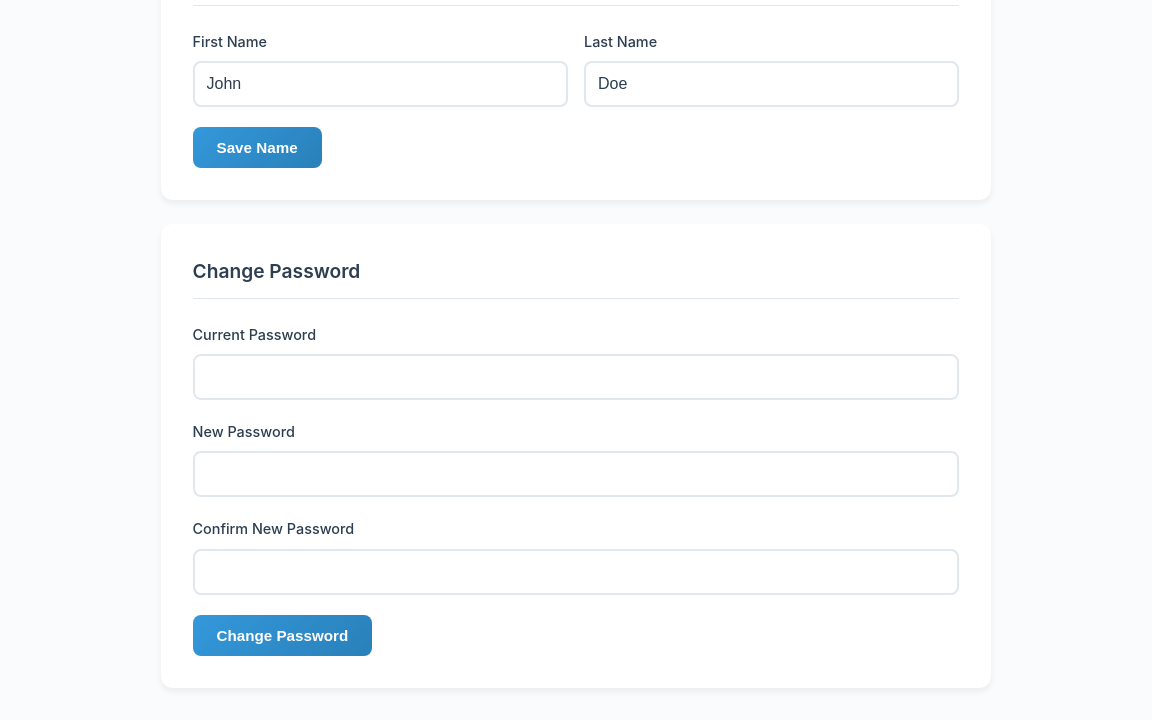
Test case: UserProfile › Change Password form › shows error when passwords do not match
(page scrolled)
Type "OldPass1!" into the password field labelled "Current Password" at (576, 377), box [192,354,959,400]
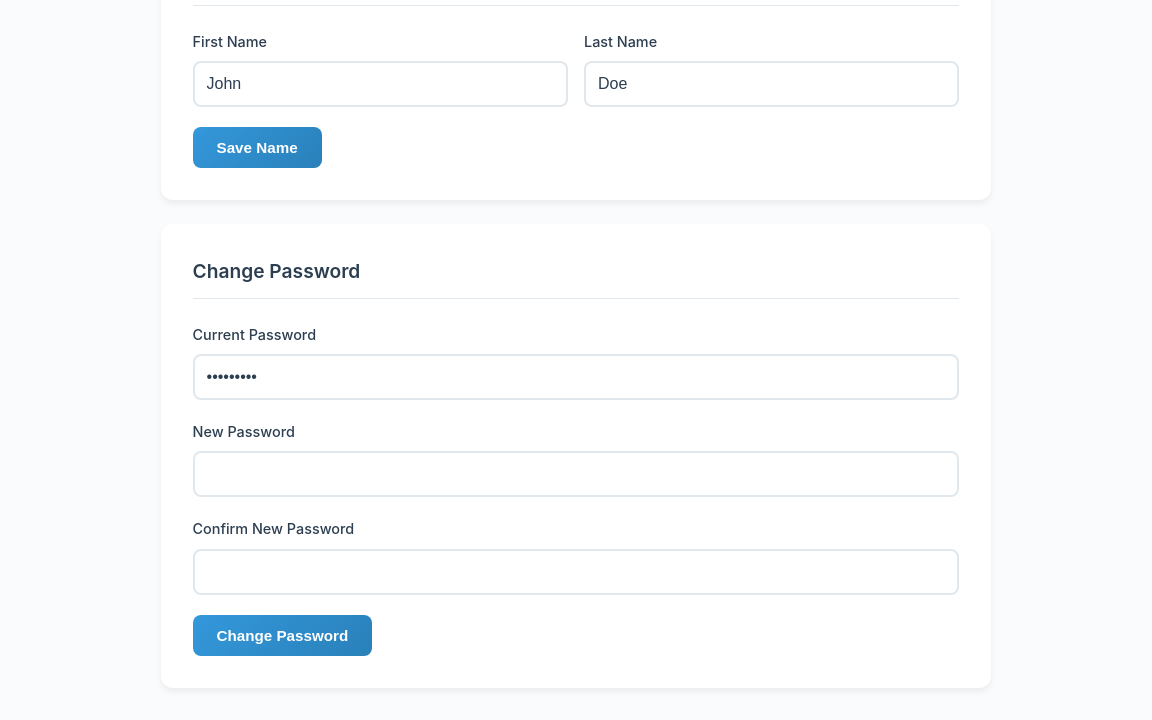
Type "NewPass1!" into the password field labelled "New Password" at (576, 474), box [192,452,959,498]
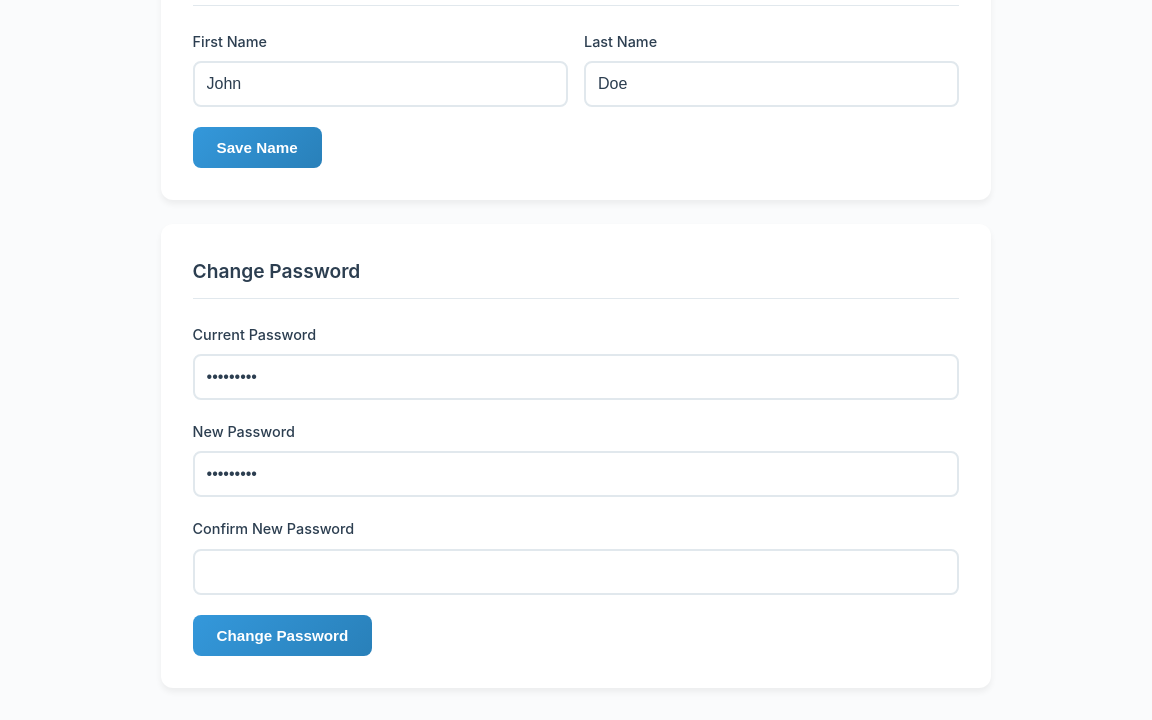
Type "Different!" into the password field labelled "Confirm New Password" at (576, 572), box [192,548,959,594]
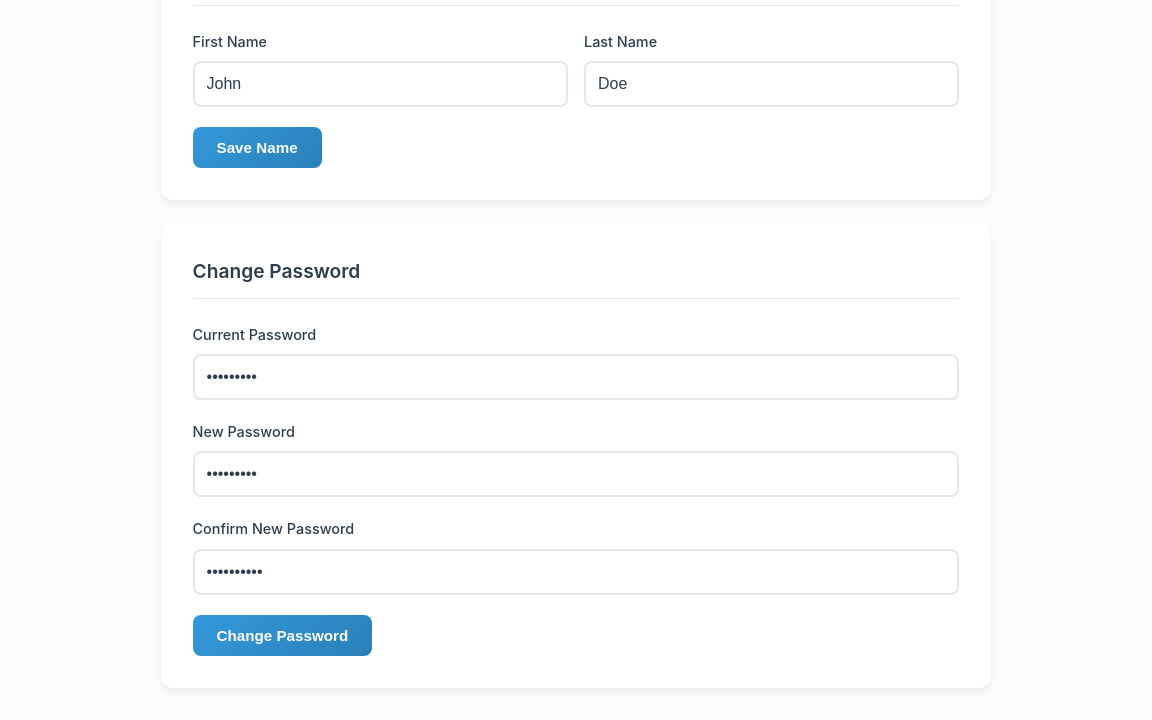
Click the button "Change Password" at (282, 635), box [192,614,372,656]
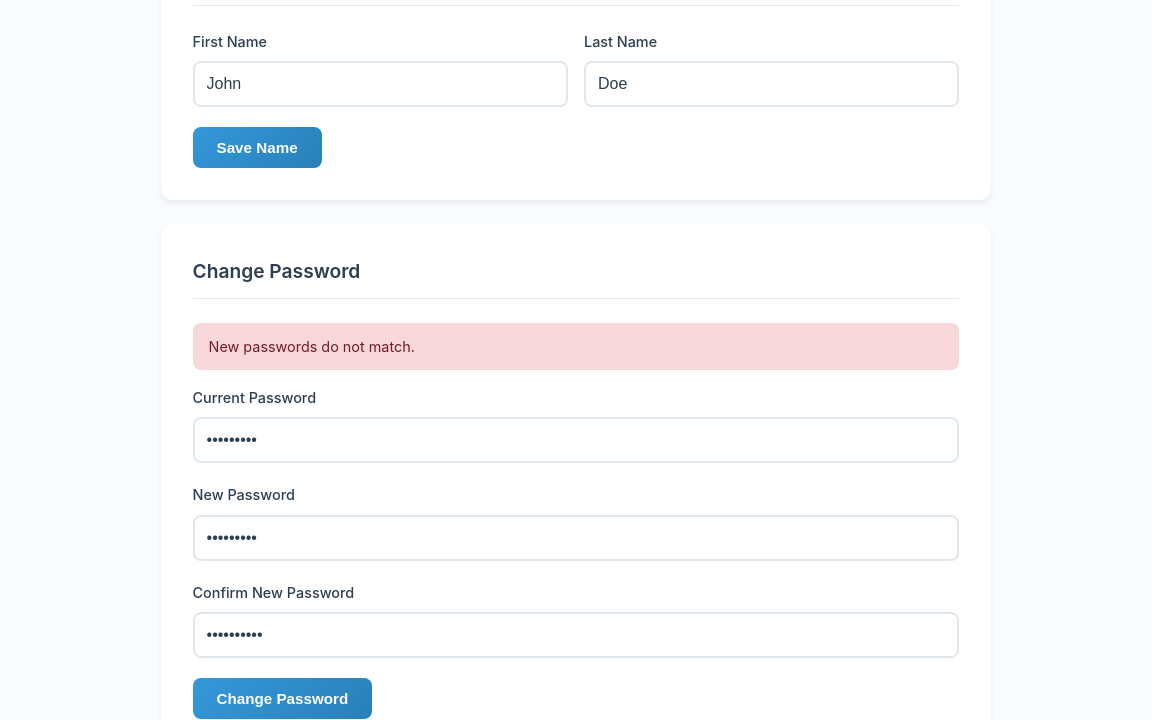
Check: the text "New passwords do not match." is shown, box [192,323,959,370]
